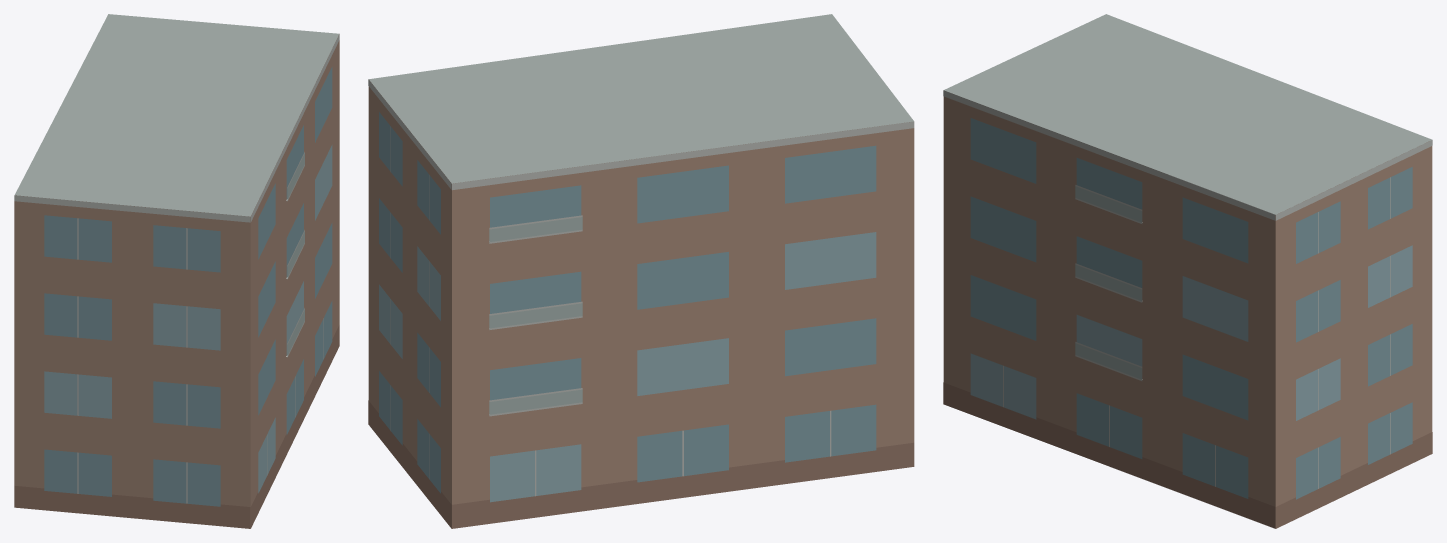
Rendered from survey-upis-32754521.glb.
3 views of the same model, side by side, from view 1: azimuth 30°, elevation 25°; view 2: azimuth 150°, elevation 25°; view 3: azimuth 270°, elevation 25° (orthographic). The views are drawn at different scales.
Parts seen in each view (by area): view 1: survey-upis-32754521.tmp; view 2: survey-upis-32754521.tmp; view 3: survey-upis-32754521.tmp.
Boxes of the visible parts, x1=… form: survey-upis-32754521.tmp: x1=14, y1=14, x2=339, y2=528; survey-upis-32754521.tmp: x1=368, y1=14, x2=914, y2=528; survey-upis-32754521.tmp: x1=943, y1=14, x2=1432, y2=528.
Size of the model in its own units: 17.35 by 12.64 by 17.85.
